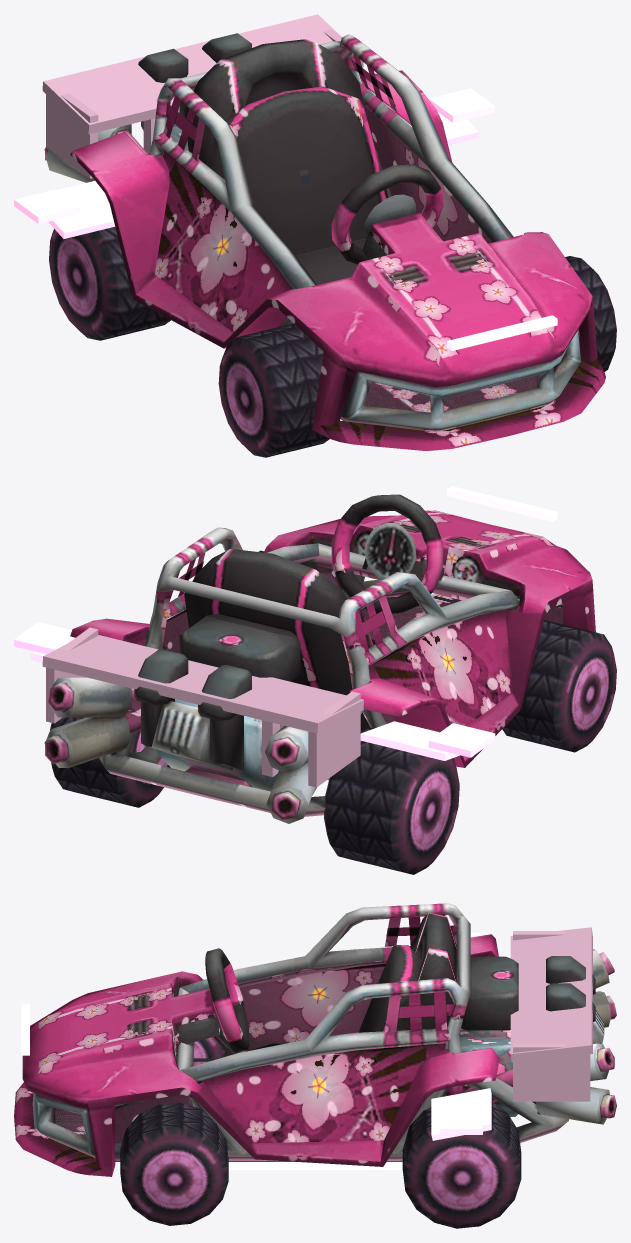
Rendered from kart_3_Linh_Sakura_S-Sakura_Wing.glb.
3 views of the same model, one above another, from view 1: azimuth 30°, elevation 25°; view 2: azimuth 150°, elevation 25°; view 3: azimuth 270°, elevation 25° (orthographic). The views are drawn at different scales.
Parts seen in each view (by area): view 1: kartModel, tireTest (2), Wing, tireTest (1), ThemeExtras, tireTest (3), NeonStrips; view 2: kartModel, Wing, tireTest (1), tireTest (2), ThemeExtras, tireTest, NeonStrips; view 3: kartModel, Wing, tireTest (3), tireTest, ThemeExtras, NeonStrips, tireTest (2).
Boxes of the visible parts, bbox=[...] form: kartModel: bbox=[44, 33, 605, 451]; tireTest (2): bbox=[218, 323, 329, 457]; Wing: bbox=[42, 14, 363, 178]; tireTest (1): bbox=[49, 227, 170, 340]; ThemeExtras: bbox=[14, 88, 495, 238]; tireTest (3): bbox=[565, 256, 616, 371]; NeonStrips: bbox=[447, 315, 557, 350]; kartModel: bbox=[44, 494, 595, 823]; Wing: bbox=[42, 627, 363, 787]; tireTest (1): bbox=[324, 727, 459, 874]; tireTest (2): bbox=[502, 619, 616, 752]; ThemeExtras: bbox=[14, 622, 495, 760]; tireTest: bbox=[50, 717, 170, 807]; NeonStrips: bbox=[447, 486, 557, 521]; kartModel: bbox=[14, 903, 616, 1176]; Wing: bbox=[510, 927, 592, 1101]; tireTest (3): bbox=[120, 1102, 228, 1225]; tireTest: bbox=[402, 1095, 521, 1228]; ThemeExtras: bbox=[431, 933, 491, 1140]; NeonStrips: bbox=[21, 1004, 402, 1169]; tireTest (2): bbox=[193, 1037, 225, 1065].
Size of the model in its own units: 0.0216 by 0.0118 by 0.0281.
5 materials, 2 textured.
